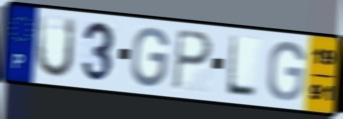3: (79, 19, 119, 85)
G: (265, 39, 307, 103), (129, 25, 171, 89)
L: (224, 34, 258, 100)
P: (171, 27, 215, 92)
U: (34, 13, 78, 80)
